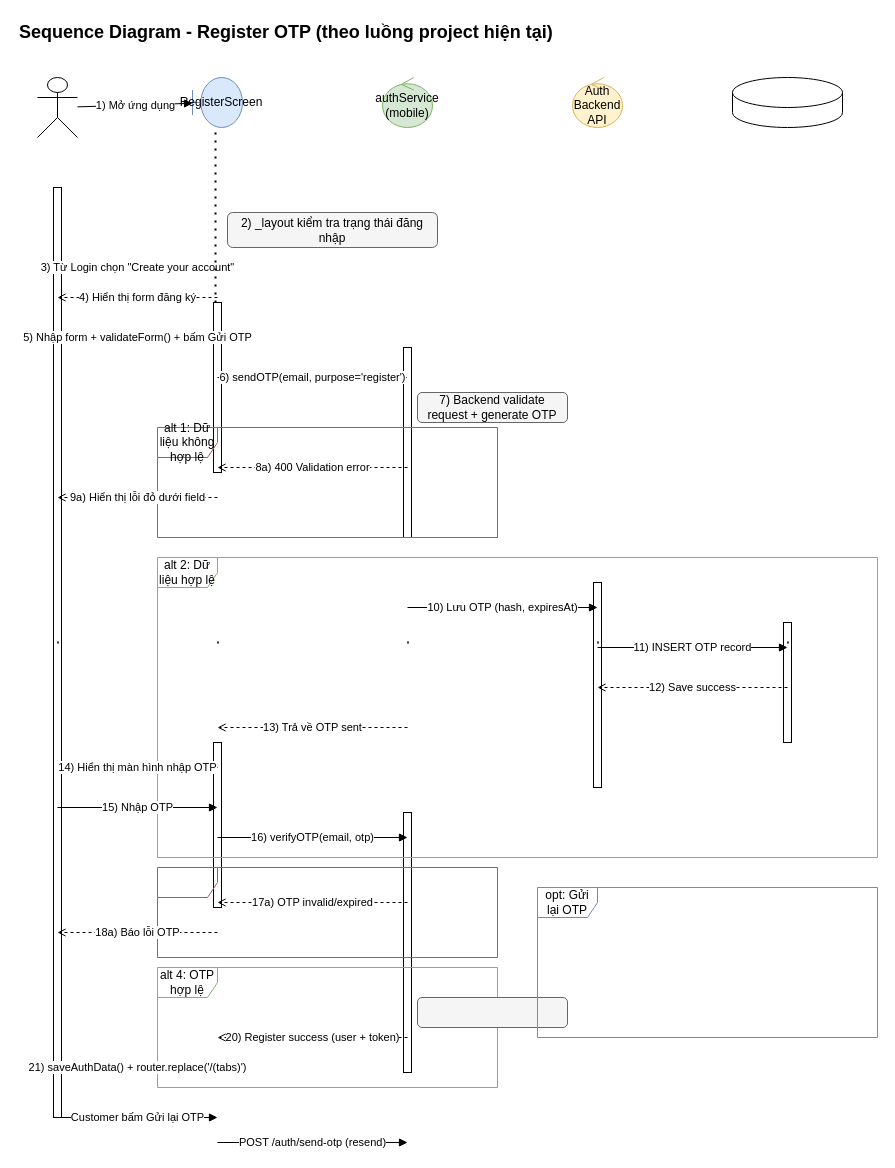
This 895x1168 diagram has some shape labels left out. The shapes that lost their labels are listed below. From the top down, each one's centre as x and y in pixels, then its label:
At (57,107): "Customer".
At (787,102): "PostgreSQL DB".
At (327,912): "alt 3: OTP sai hoặc hết hạn".
At (492,1012): "19) OTP OK -> gọi register(email,password,fullName,phone)".
